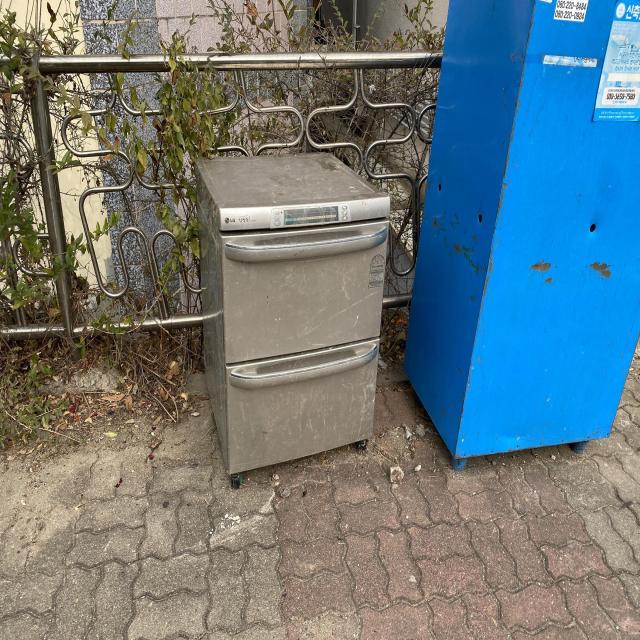refrigerator: (196, 147, 392, 485)
